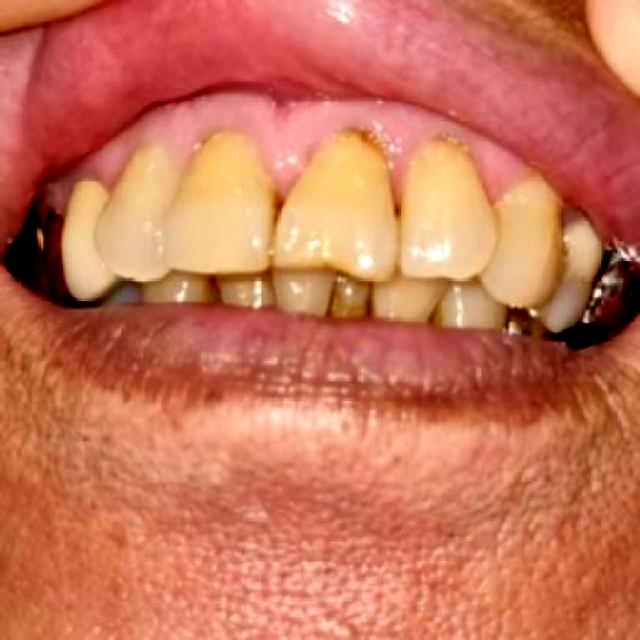Plaque: (369, 128, 440, 218), (245, 130, 330, 196), (474, 148, 528, 204), (90, 156, 132, 193)
